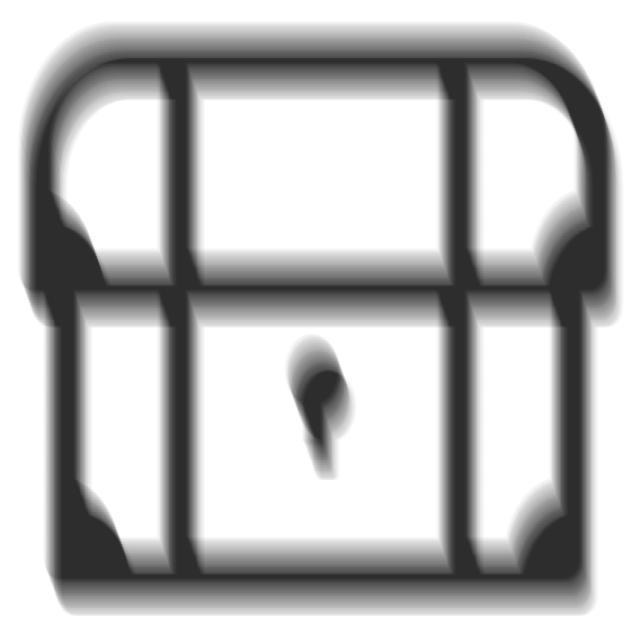treasure_box: (12, 12, 631, 623)
